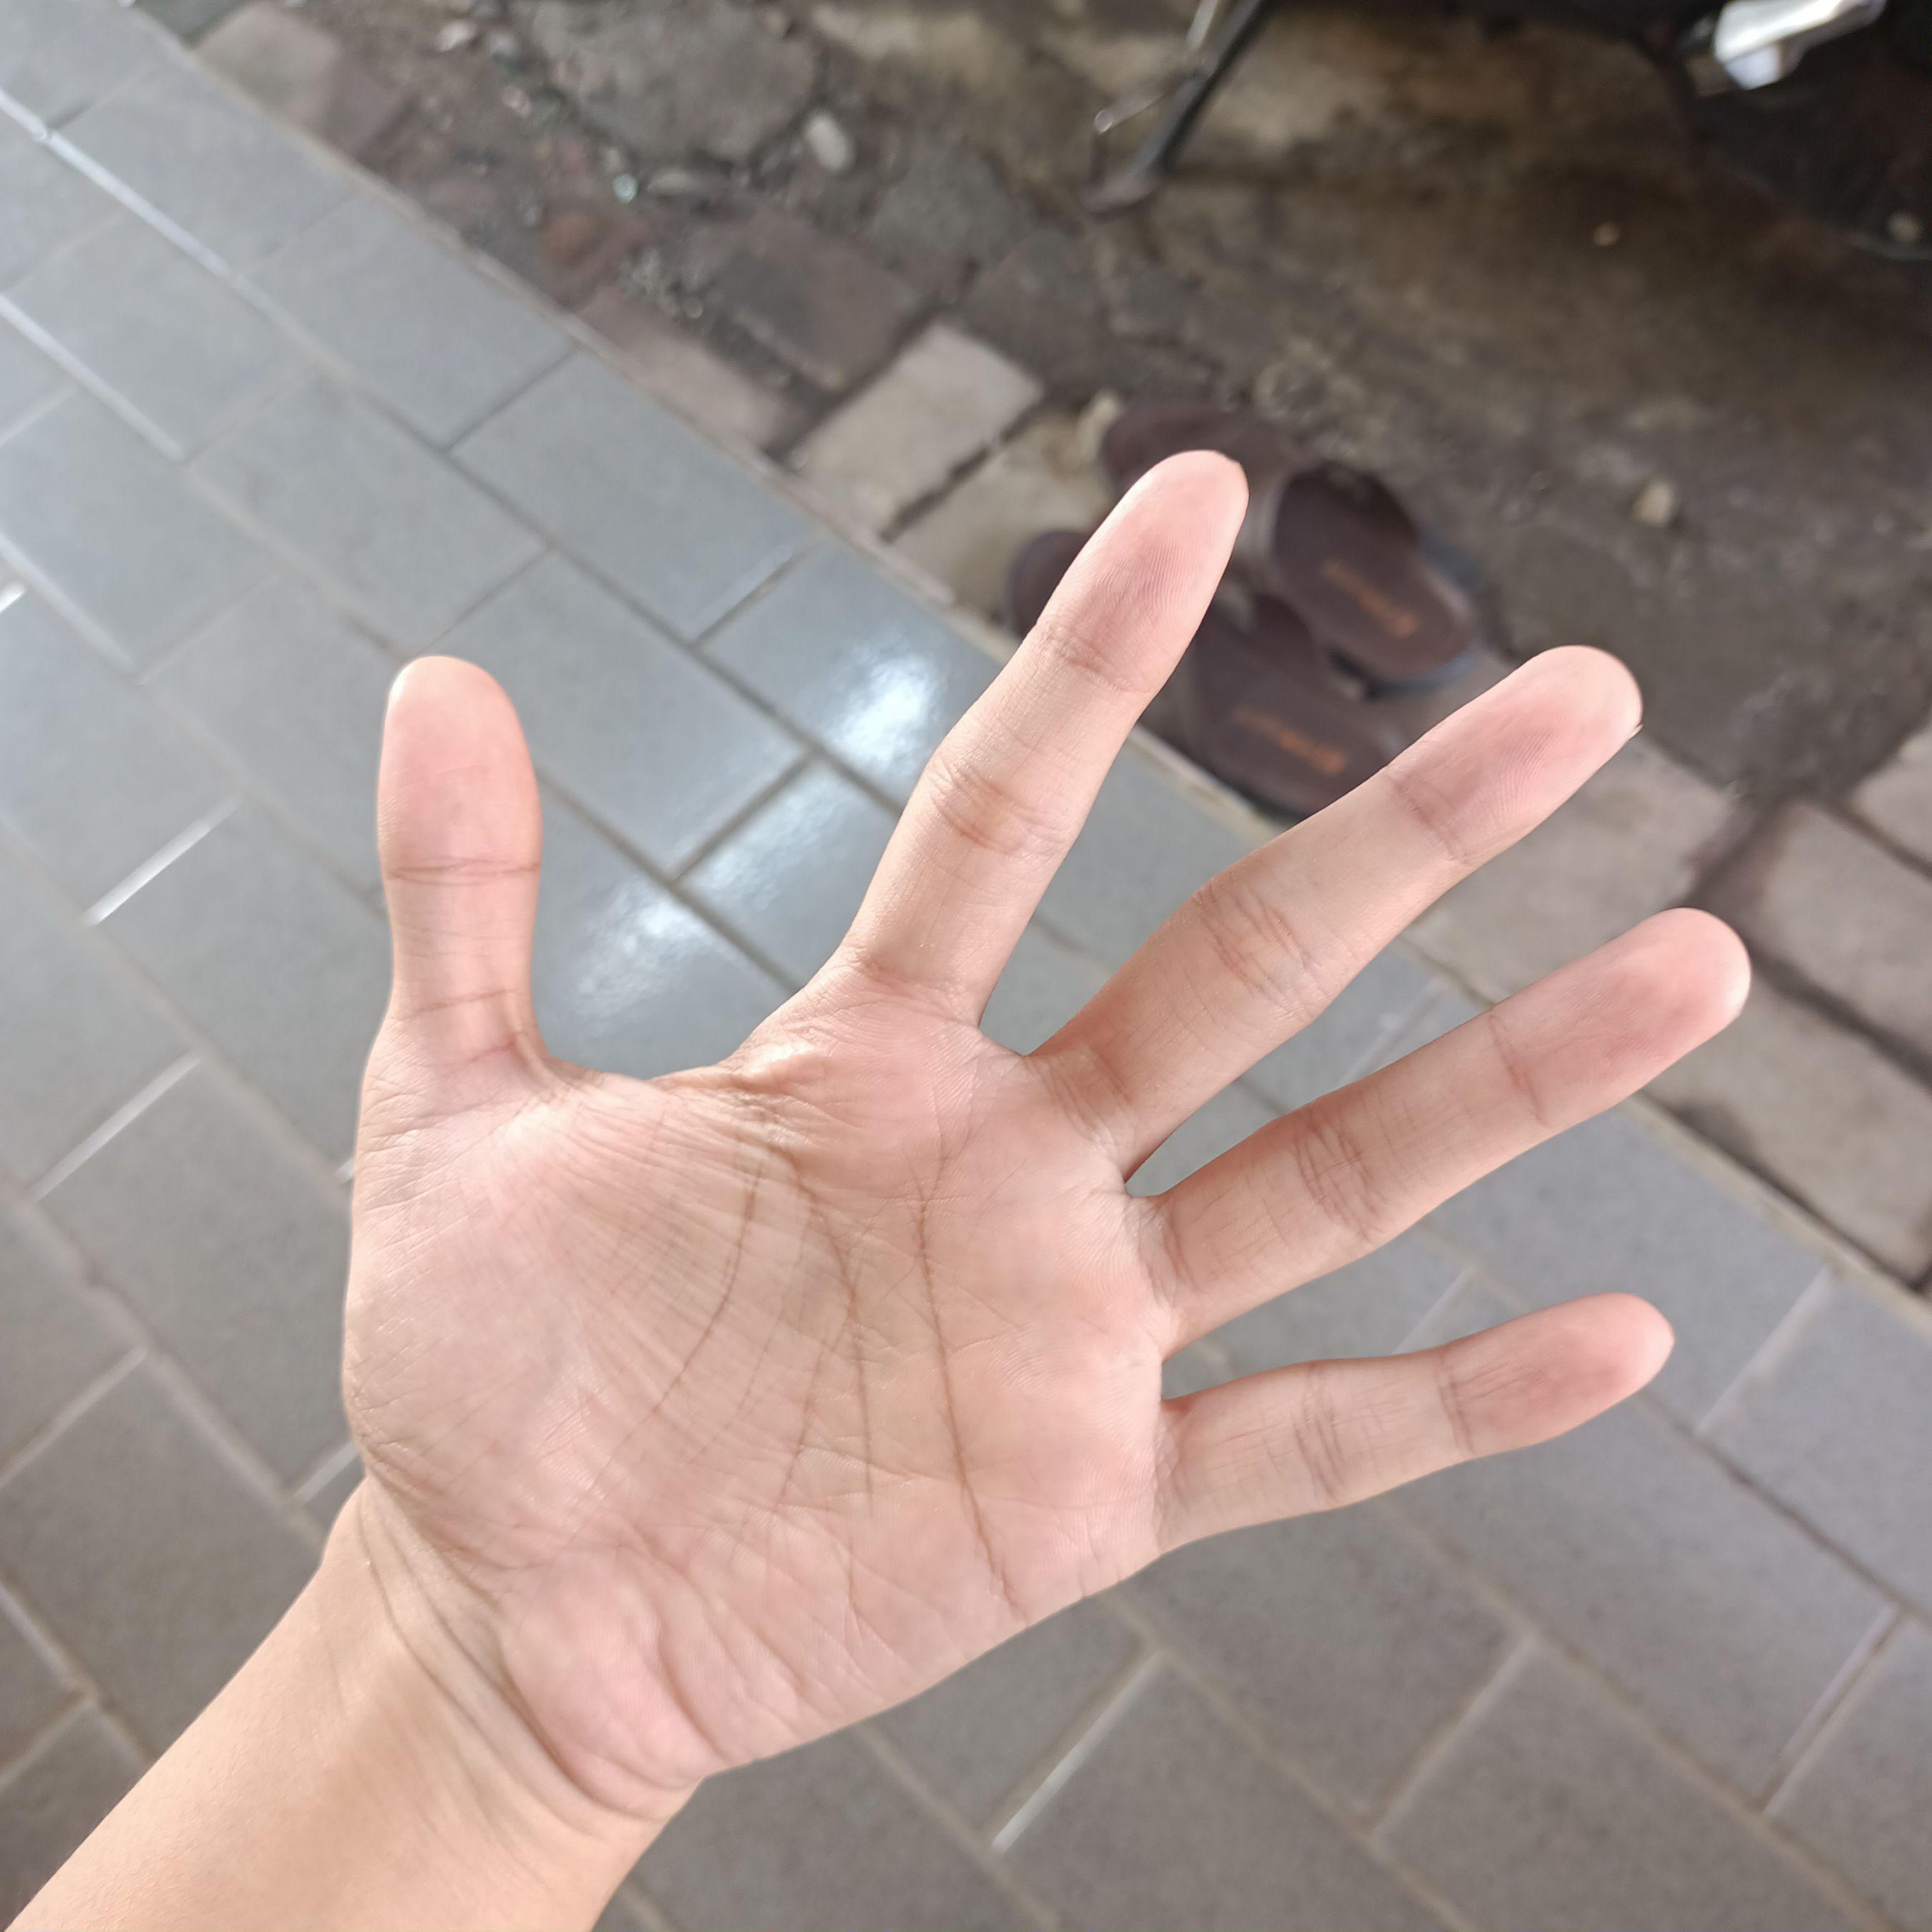paper: (338, 425, 1780, 1829)
